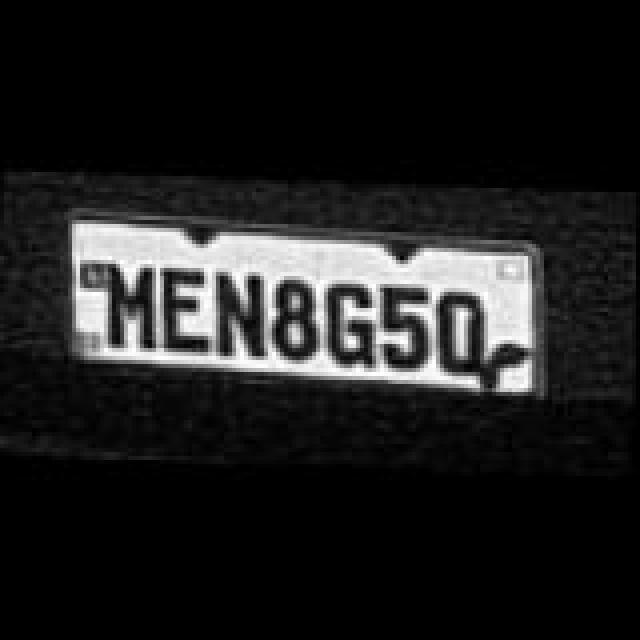5: (374, 282, 434, 366)
8: (268, 274, 324, 358)
D: (430, 288, 490, 372)
E: (158, 262, 218, 346)
G: (322, 278, 382, 366)
M: (80, 256, 160, 348)
N: (212, 266, 268, 354)
